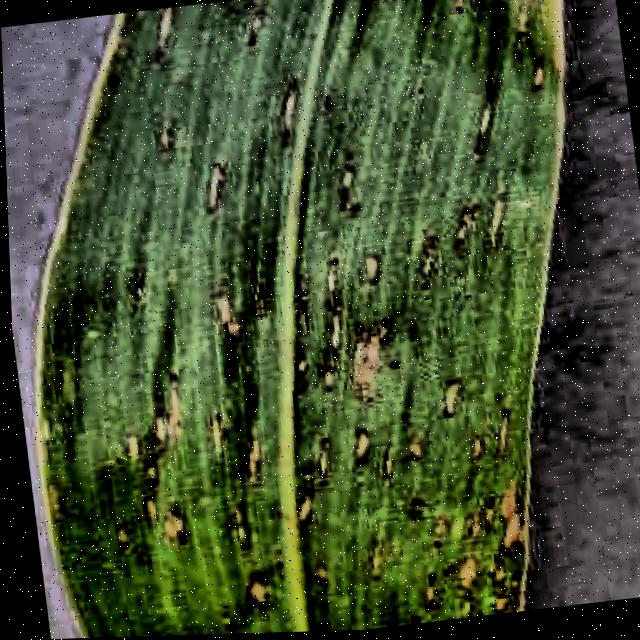gray_spot: (3, 0, 616, 640)
